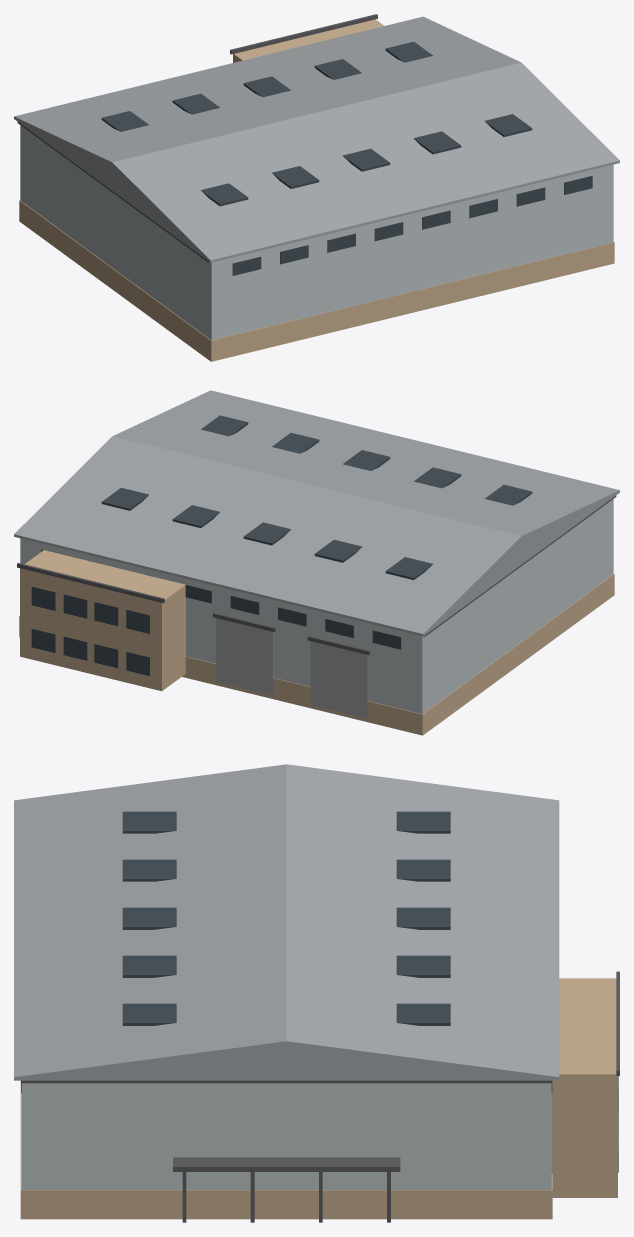
The model's file is shed.glb.
The picture shows the model from 3 angles, top to bottom: view 1: azimuth 30°, elevation 25°; view 2: azimuth 150°, elevation 25°; view 3: azimuth 270°, elevation 25°; orthographic projection. The views are drawn at different scales.
Parts seen in each view (by area): view 1: shed; view 2: shed; view 3: shed.
Part boxes in pixels (x1=…): shed: x1=14, y1=14, x2=619, y2=361; shed: x1=14, y1=390, x2=619, y2=735; shed: x1=14, y1=764, x2=619, y2=1222.
Bounding box in the file's own units: 35.5 × 10.5 × 32.
